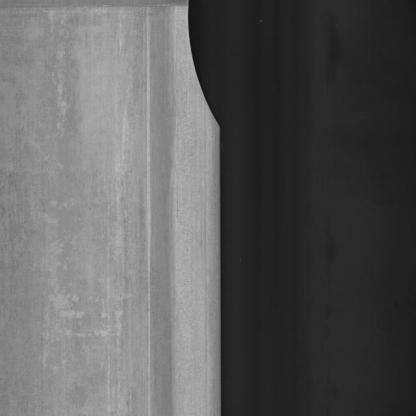crescent_gap: (181, 0, 237, 138)
welding_line: (3, 1, 206, 22)
